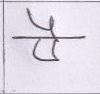ai_matra: (27, 7, 61, 37)
